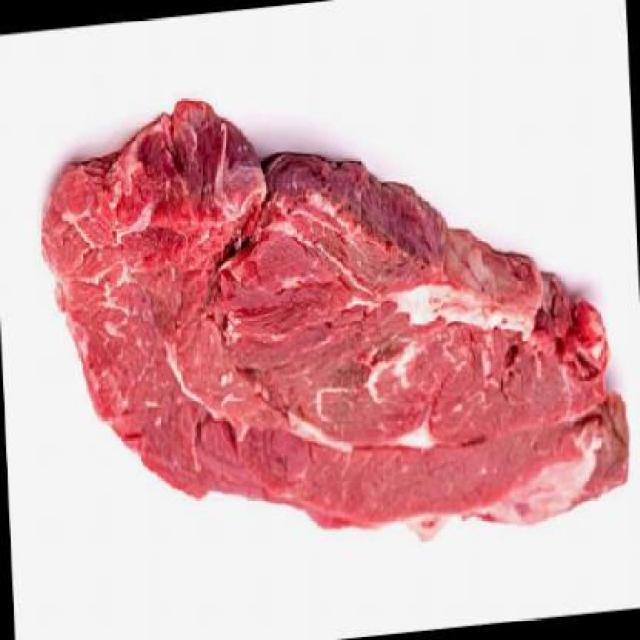beef: (34, 51, 631, 584)
